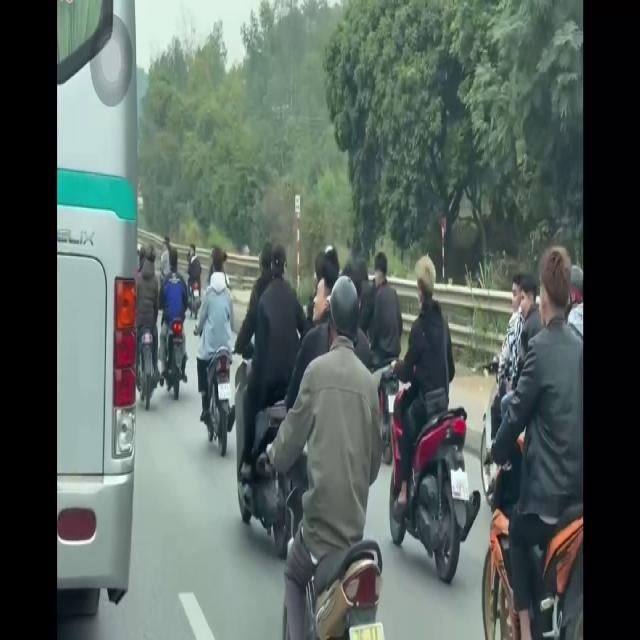helmet: (327, 270, 360, 370)
no_helmet: (535, 245, 570, 337), (413, 254, 441, 331)
